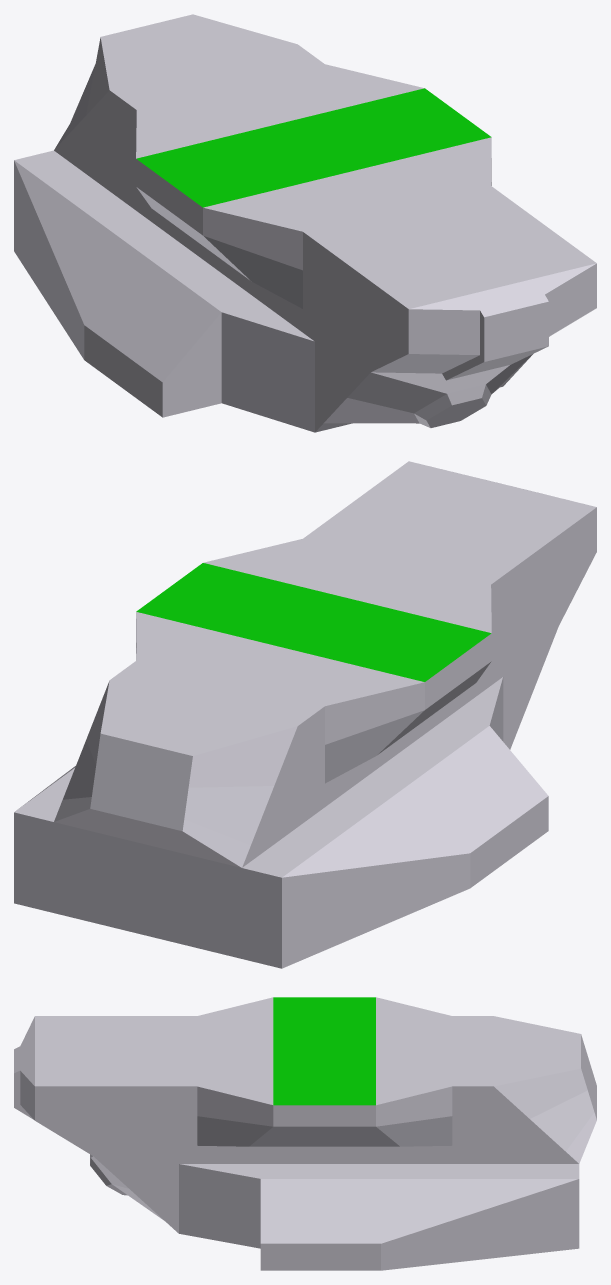
Rendered from part.baseClip.fbx.
3 views of the same model, one above another, from view 1: azimuth 30°, elevation 25°; view 2: azimuth 150°, elevation 25°; view 3: azimuth 270°, elevation 25° (orthographic). The views are drawn at different scales.
Parts seen in each view (by area): view 1: part.baseClip; view 2: part.baseClip; view 3: part.baseClip.
Boxes of the visible parts, x1=… form: part.baseClip: x1=14, y1=14, x2=596, y2=432; part.baseClip: x1=14, y1=461, x2=596, y2=968; part.baseClip: x1=14, y1=997, x2=596, y2=1270.
Bounding box in the file's own units: 1.21 × 0.5752 × 2.06.
